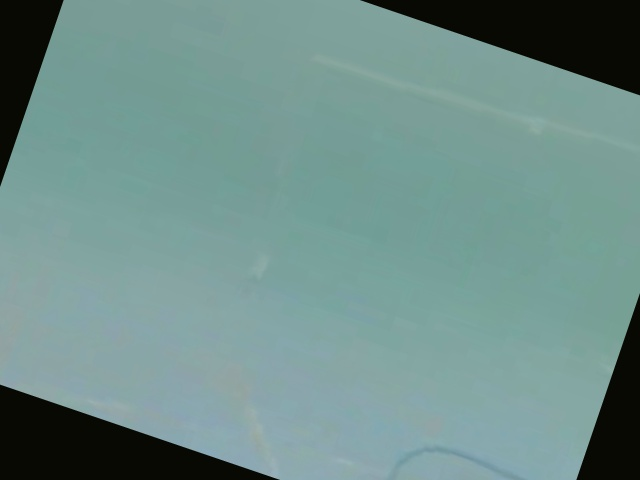gate: (244, 51, 640, 361)
